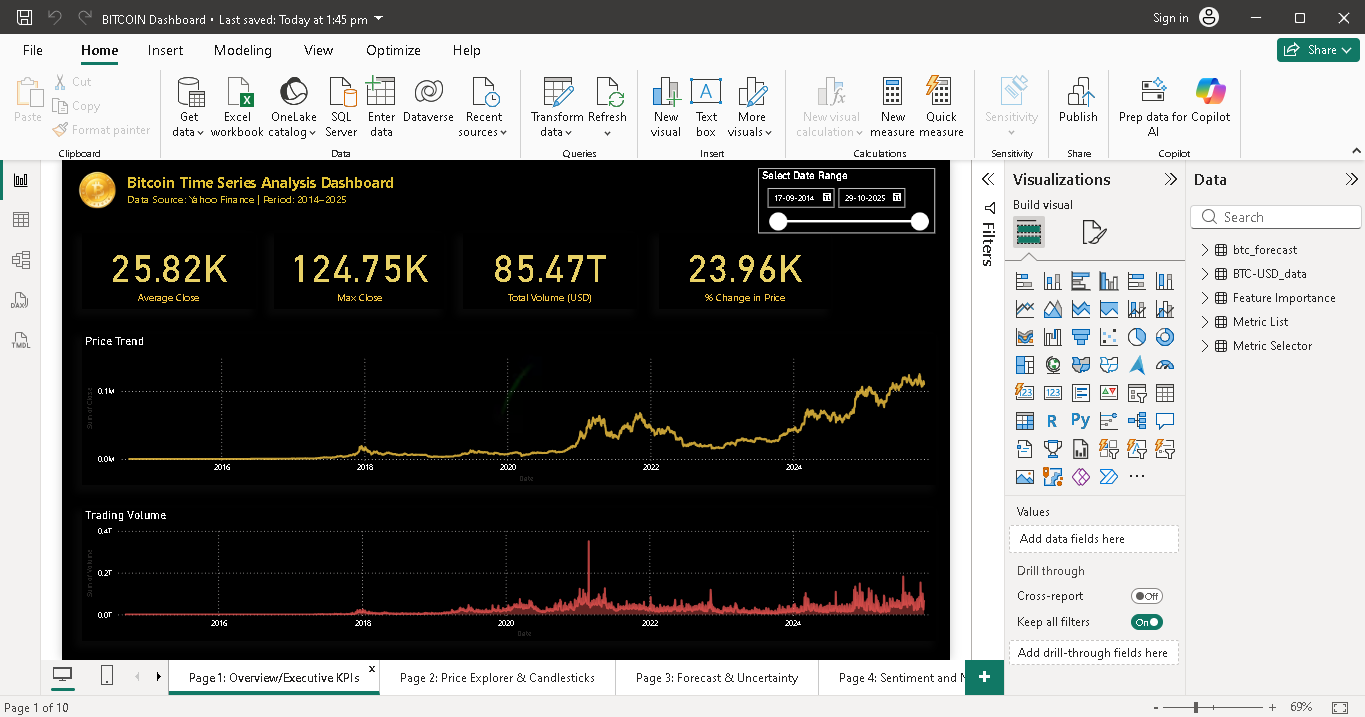

What the dashboard file says about the page in this screenshot:
{"tool":"powerbi","page":{"name":"Page 1: Overview/Executive KPIs","canvas":[1280,720],"ordinal":0},"visuals":[{"type":"card","fields":{"Values":["BTC-USD_data.Max Close"]},"box":[305.7,105.8,245.2,109.2],"z":0},{"type":"card","fields":{"Values":["BTC-USD_data.Total Volume"]},"box":[577.8,105.8,250.3,109.2],"z":1000},{"type":"card","fields":{"Values":["BTC-USD_data.Average Close"]},"box":[28.6,105.8,250.3,109.2],"z":2000},{"type":"card","fields":{"Values":["BTC-USD_data.Price Change %"]},"box":[860.1,105.8,246.9,109.2],"z":3000},{"type":"image","box":[0,11.8,102.5,63.8],"z":4000},{"type":"textbox","box":[89,11.8,431.7,80.6],"z":5000},{"type":"lineChart","title":"Price Trend","fields":{"Category":["BTC-USD_data.Date"],"Y":["Sum(BTC-USD_data.Close)"]},"box":[28.6,250.3,1229.6,218.4],"z":6000},{"type":"areaChart","title":"Trading Volume","fields":{"Category":["BTC-USD_data.Date"],"Y":["Sum(BTC-USD_data.Volume)"]},"box":[28.6,500.6,1229.6,191.5],"z":7000},{"type":"slicer","title":"Select Date Range","fields":{"Values":["BTC-USD_data.Date"]},"box":[1002.8,11.8,255.3,94.1],"z":8000}]}

Visuals, with their boxes on the page's 1280x720 design canvas (x1, y1, x2, y2). These are canvas units, not pixel positions in the 1365x717 screenshot, which may show the page scaled, cropped or inside an application window:
card - BTC-USD_data.Max Close: [left=306, top=106, right=551, bottom=215]
card - BTC-USD_data.Total Volume: [left=578, top=106, right=828, bottom=215]
card - BTC-USD_data.Average Close: [left=29, top=106, right=279, bottom=215]
card - BTC-USD_data.Price Change %: [left=860, top=106, right=1107, bottom=215]
image: [left=0, top=12, right=102, bottom=76]
textbox: [left=89, top=12, right=521, bottom=92]
"Price Trend" lineChart: [left=29, top=250, right=1258, bottom=469]
"Trading Volume" areaChart: [left=29, top=501, right=1258, bottom=692]
"Select Date Range" slicer: [left=1003, top=12, right=1258, bottom=106]
